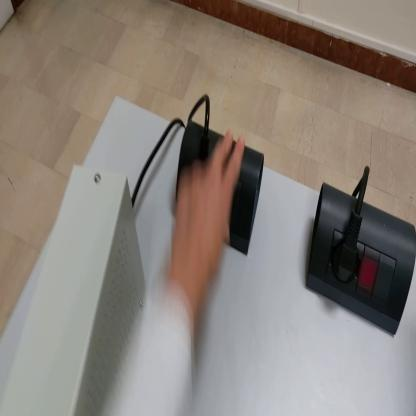hand: (171, 130, 244, 290)
power supply: (10, 161, 149, 416)
socket: (310, 182, 416, 337), (177, 118, 265, 254)
